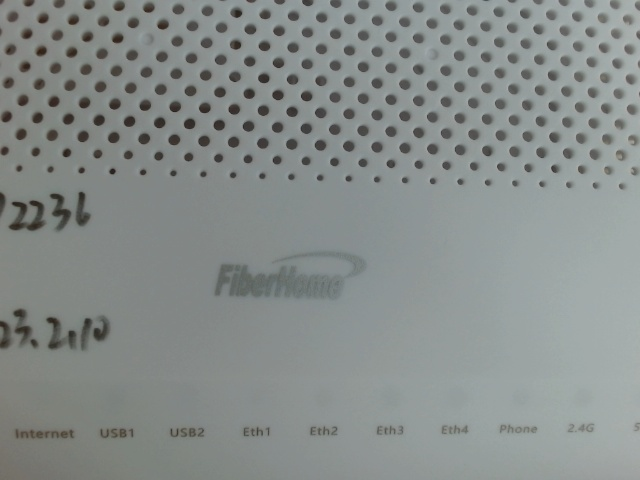AI_FiberHome: (205, 236, 372, 307)
